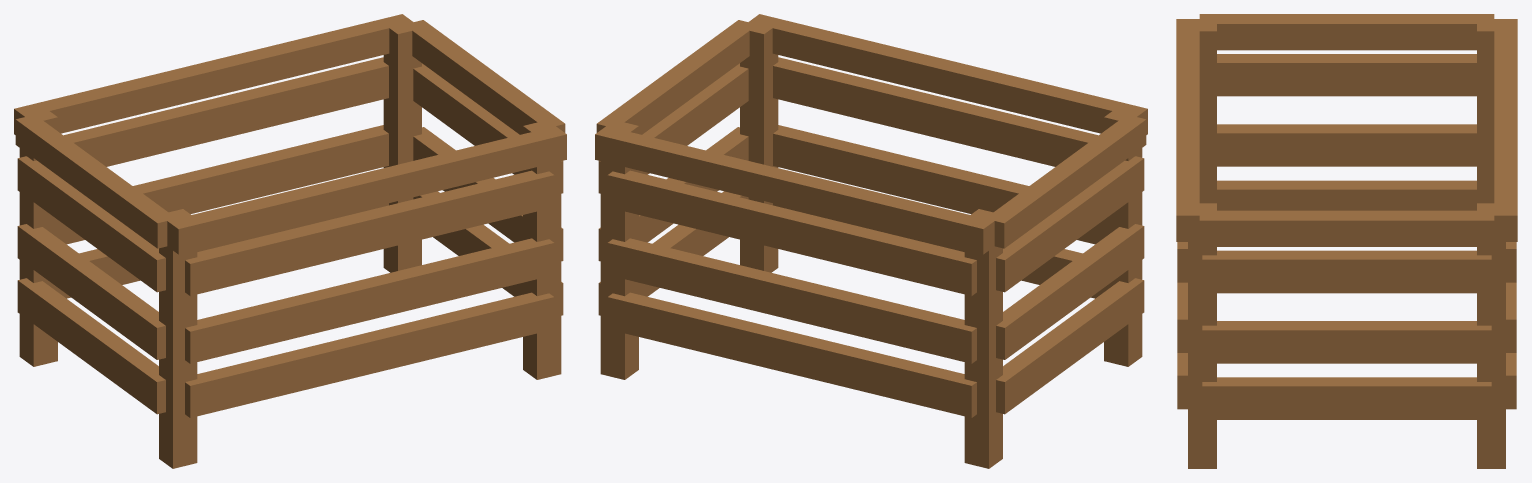
File: HomebaseWoodCrateLarge_LOD00.gltf
The picture shows the model from 3 angles, left to right: view 1: azimuth 30°, elevation 25°; view 2: azimuth 150°, elevation 25°; view 3: azimuth 270°, elevation 25°; orthographic projection. The views are drawn at different scales.
Visible parts, largest first — view 1: HomebaseWoodCrateLarge_node; view 2: HomebaseWoodCrateLarge_node; view 3: HomebaseWoodCrateLarge_node.
Part boxes in pixels (x1,y1,x2,y2): HomebaseWoodCrateLarge_node: [14, 14, 566, 468]; HomebaseWoodCrateLarge_node: [595, 14, 1147, 468]; HomebaseWoodCrateLarge_node: [1176, 14, 1517, 468].
Bounding box in the file's own units: 1.26 × 0.72 × 0.88.
